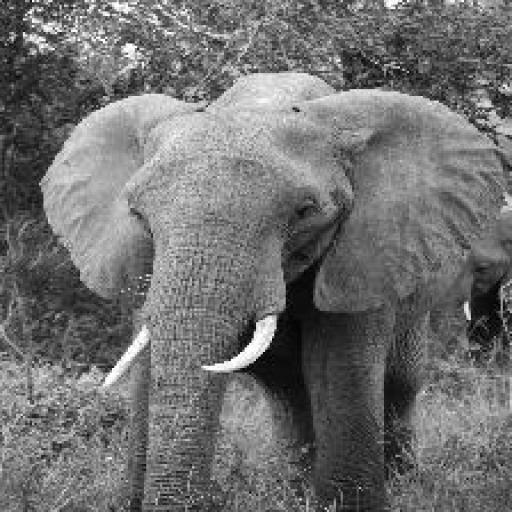Elephant: (39, 71, 510, 510)
